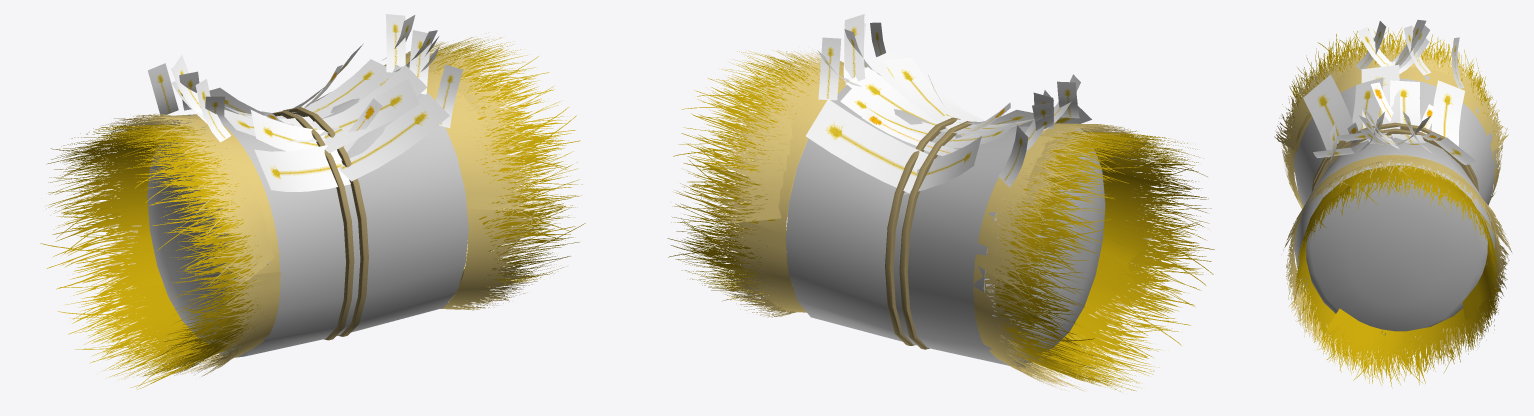
Rendered from Haybale.fbx.
The picture shows the model from 3 angles, left to right: view 1: azimuth 30°, elevation 25°; view 2: azimuth 150°, elevation 25°; view 3: azimuth 270°, elevation 25°; orthographic projection. The views are drawn at different scales.
Visible parts, largest first — view 1: group8_group7_pPlane22; view 2: group8_group7_pPlane22; view 3: group8_group7_pPlane22.
Part boxes in pixels (box(x1,y1,x2,y2)): group8_group7_pPlane22: box(40, 14, 585, 389); group8_group7_pPlane22: box(667, 14, 1214, 391); group8_group7_pPlane22: box(1274, 20, 1512, 387).
Size of the model in its own units: 34.64 by 21.06 by 19.
